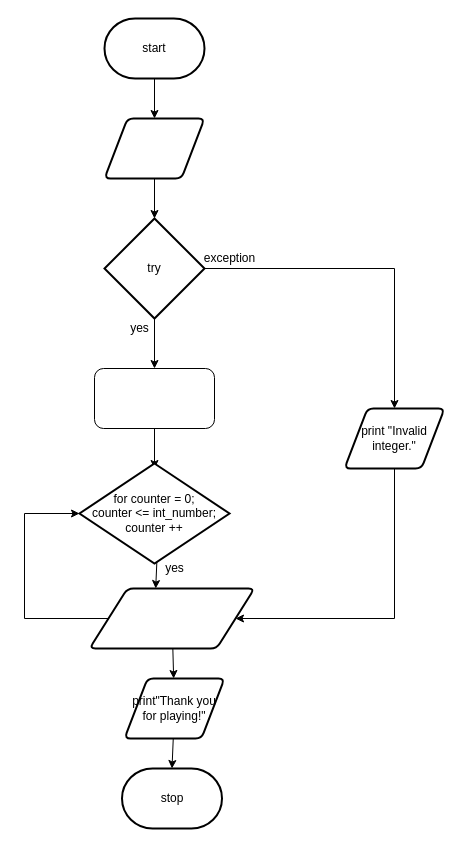
Image size: 463x846. Some labels were removed from this diagram. Here are the shapes that lost their labels. From the top down, the centre of each, then its label:
the point at 154,148: get string_integer
the point at 154,398: convert string to int
the point at 171,618: answer = loop_counter * loop_counter
